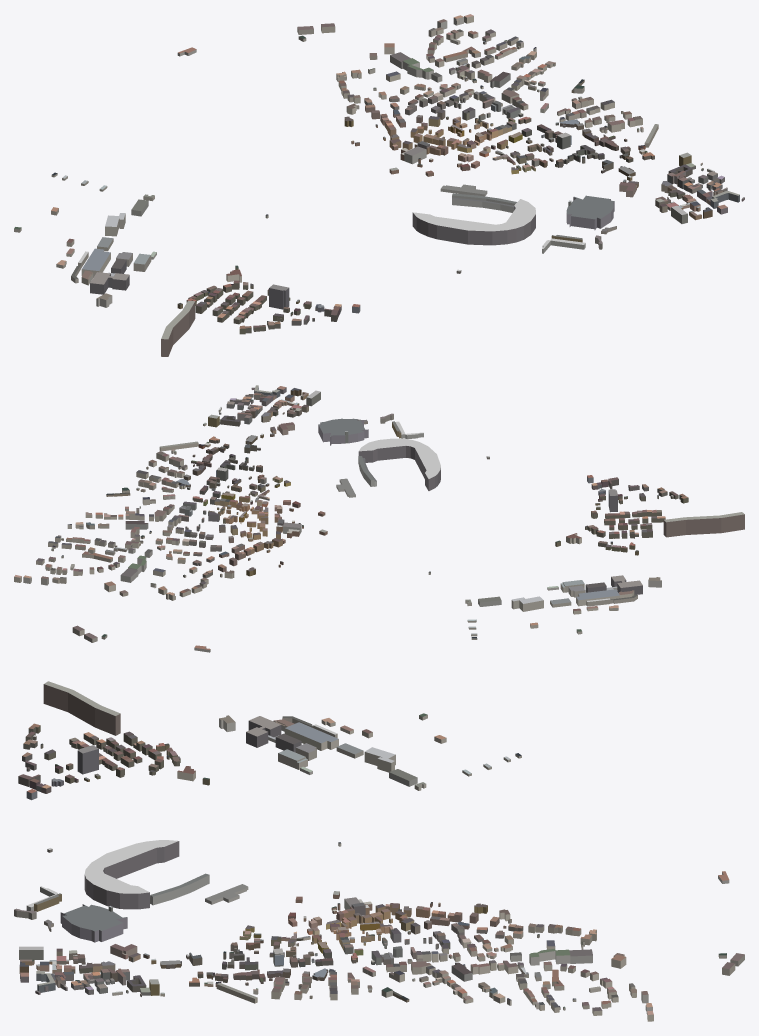
3 renders of one model, top to bottom at view 1: azimuth 30°, elevation 25°; view 2: azimuth 150°, elevation 25°; view 3: azimuth 270°, elevation 25°, orthographic. The views are drawn at different scales.
Parts seen in each view (by area): view 1: tuile; view 2: tuile; view 3: tuile.
Boxes of the visible parts, x1,y1,x2,y2 form: tuile: [14, 14, 744, 356]; tuile: [14, 385, 744, 652]; tuile: [14, 681, 744, 1021].
Bounding box in the file's own units: 1055 × 73.67 × 1015.
